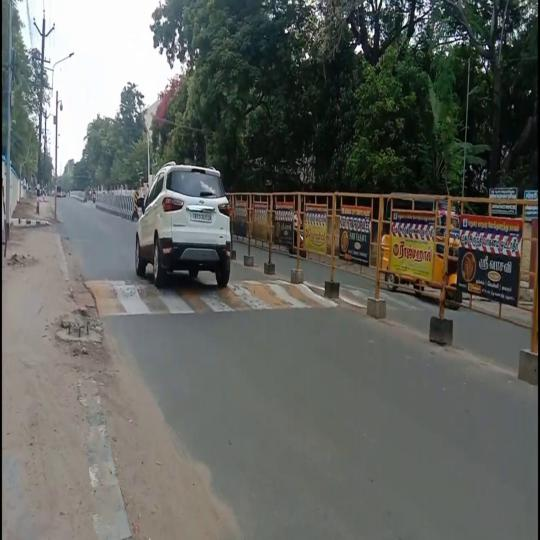Speed Bump: (230, 280, 325, 315), (84, 279, 156, 318), (167, 280, 217, 316), (387, 289, 438, 307), (340, 283, 367, 307)
